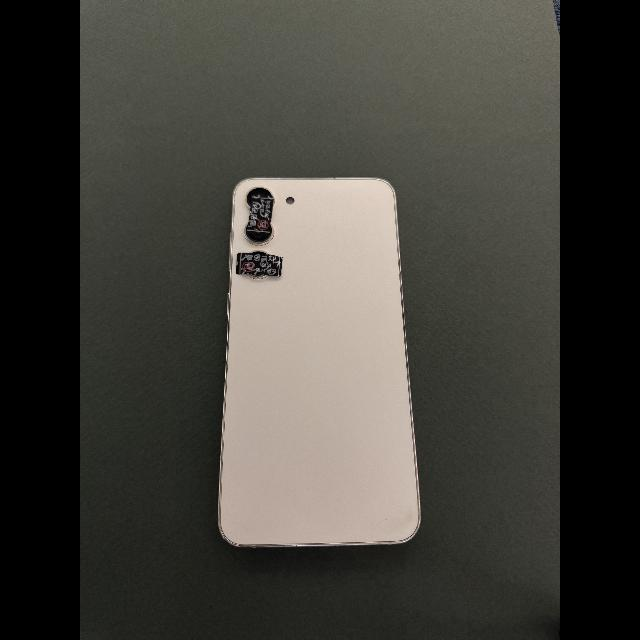lens: (246, 187, 272, 208), (246, 225, 273, 245), (250, 250, 269, 255)
phone: (218, 178, 420, 547)
sticker: (236, 253, 284, 278), (247, 193, 273, 236)
